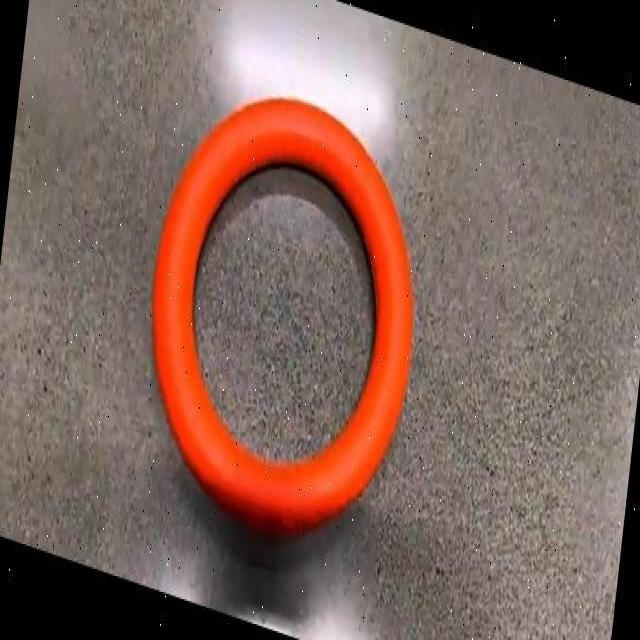note: (153, 98, 413, 533)
